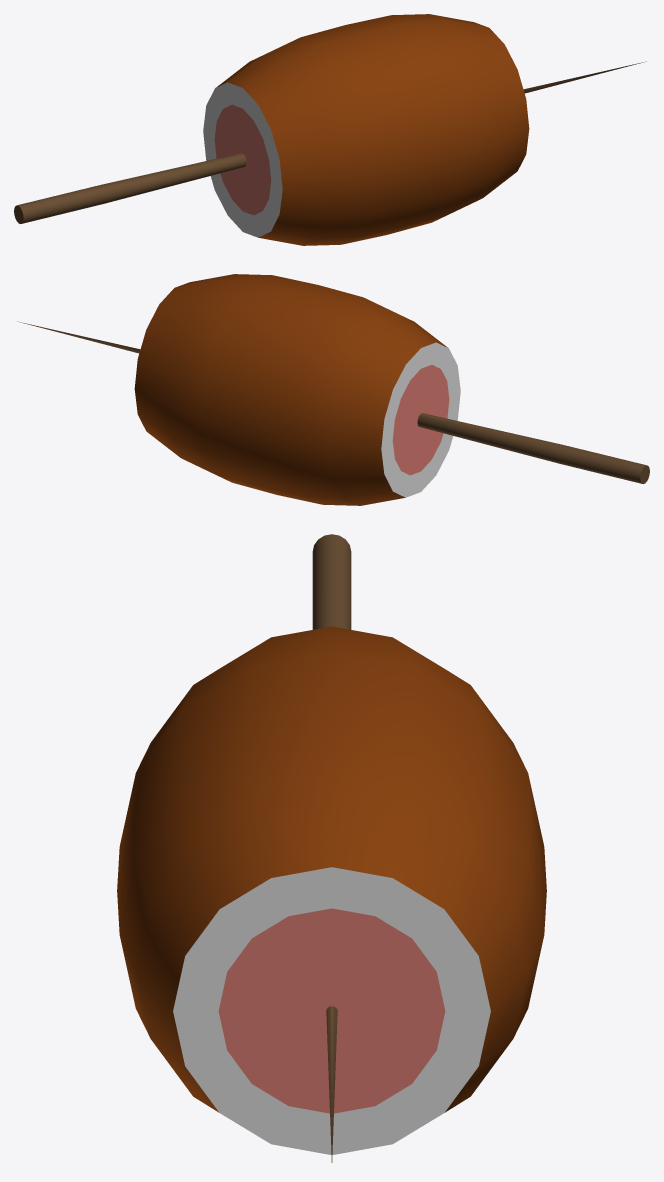
Rendered from Meat.fbx.
The picture shows the model from 3 angles, top to bottom: view 1: azimuth 30°, elevation 25°; view 2: azimuth 150°, elevation 25°; view 3: azimuth 270°, elevation 25°; orthographic projection. The views are drawn at different scales.
Parts seen in each view (by area): view 1: Meat; view 2: Meat; view 3: Meat.
Boxes of the visible parts, x1,y1,x2,y2 form: Meat: [14, 14, 645, 245]; Meat: [18, 274, 649, 505]; Meat: [117, 534, 546, 1162].
Size of the model in its own units: 24.39 by 7.19 by 7.19.
